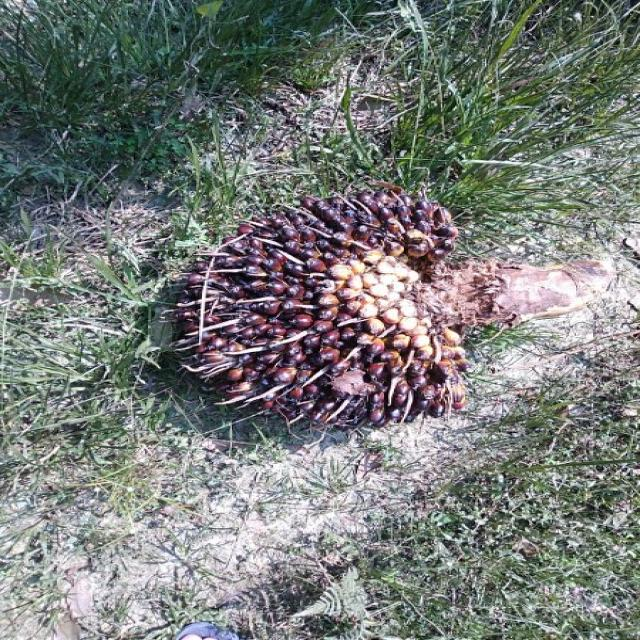fraksi 00: (160, 193, 480, 428)
